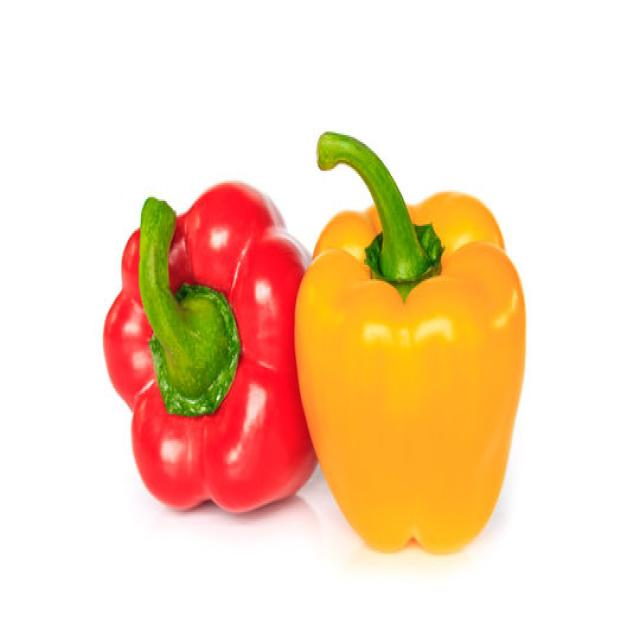Bell Pepper: (293, 128, 526, 555), (102, 178, 318, 514)
